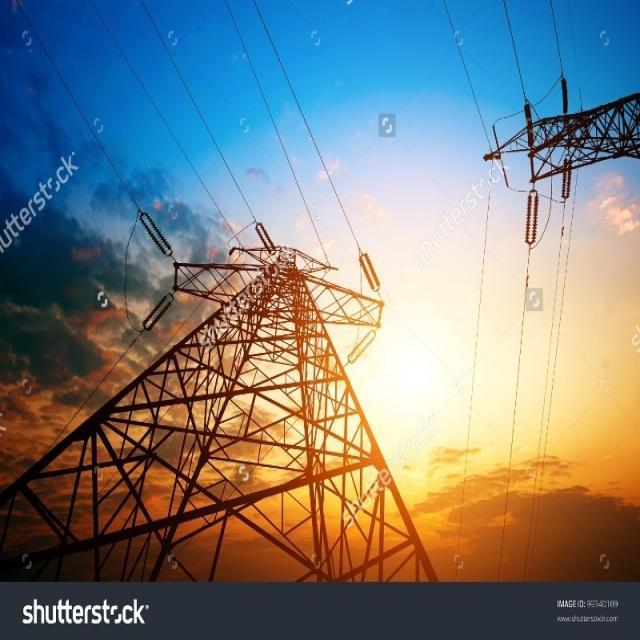non-critical vegetation: (7, 211, 461, 578), (478, 84, 630, 200)
